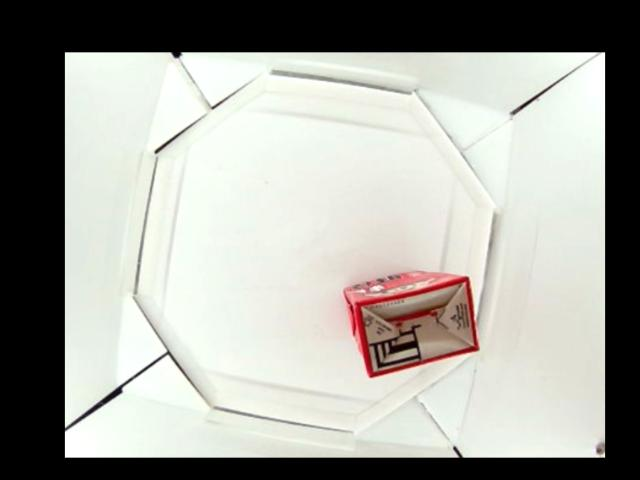Bottle: (344, 269, 481, 376)
